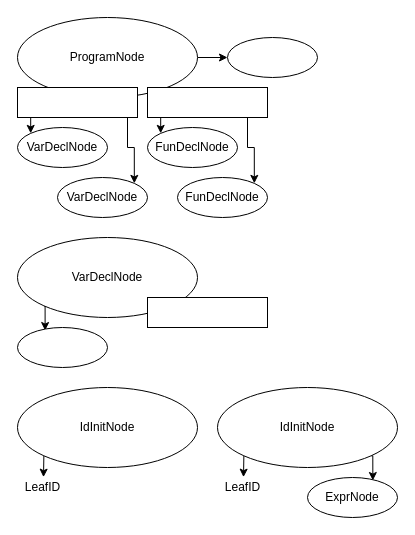
Image size: 415x535. Some labels were removed from this diagram. Each missing label, with the centre of its shape:
List<FunDeclNode>: the point at 207,102
List<IdInitNode>: the point at 207,312
List<VarDeclNode>: the point at 77,102
MainNode: the point at 272,57
TypeNode: the point at 62,347
